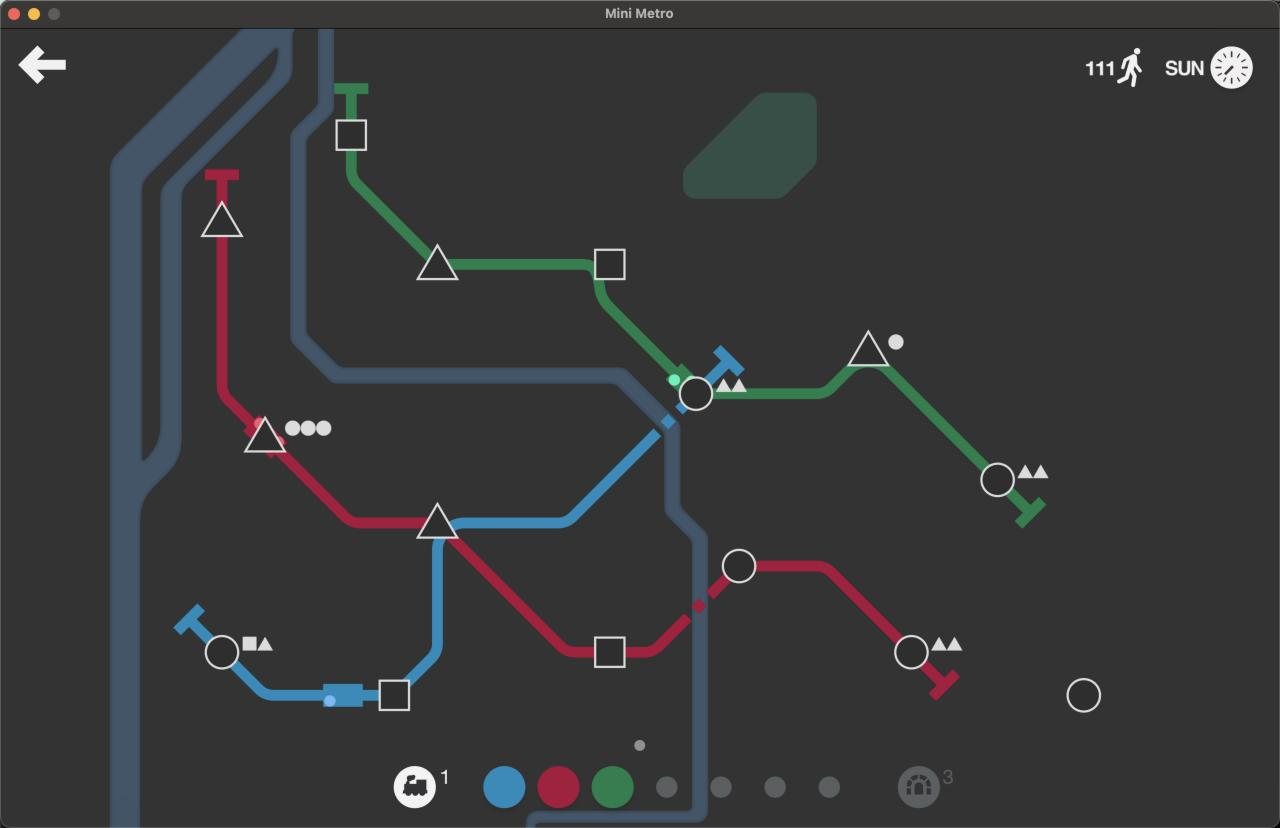CIRCLE: (678, 375, 715, 413), (1065, 677, 1102, 714), (980, 461, 1016, 498), (894, 633, 930, 670), (204, 634, 239, 670), (721, 548, 756, 584)
SQUARE: (593, 248, 628, 282), (593, 635, 627, 669), (378, 678, 411, 712), (335, 119, 368, 152)
TRIANGLE: (415, 242, 461, 283), (414, 501, 461, 540), (199, 200, 245, 239), (243, 414, 287, 454), (848, 329, 891, 369)
